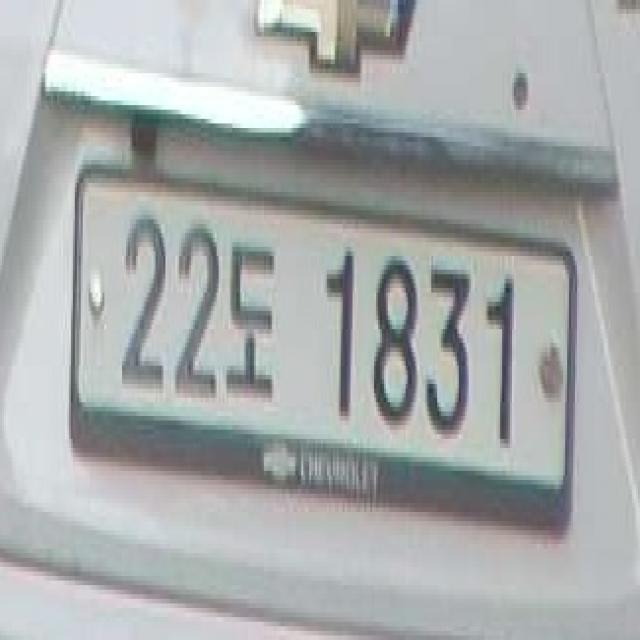1: (319, 241, 362, 425), (484, 266, 524, 455)
2: (115, 209, 172, 400), (171, 215, 224, 405)
3: (423, 251, 479, 448)
8: (368, 244, 421, 433)
do: (226, 226, 285, 410)
license_plate: (78, 176, 570, 485)
